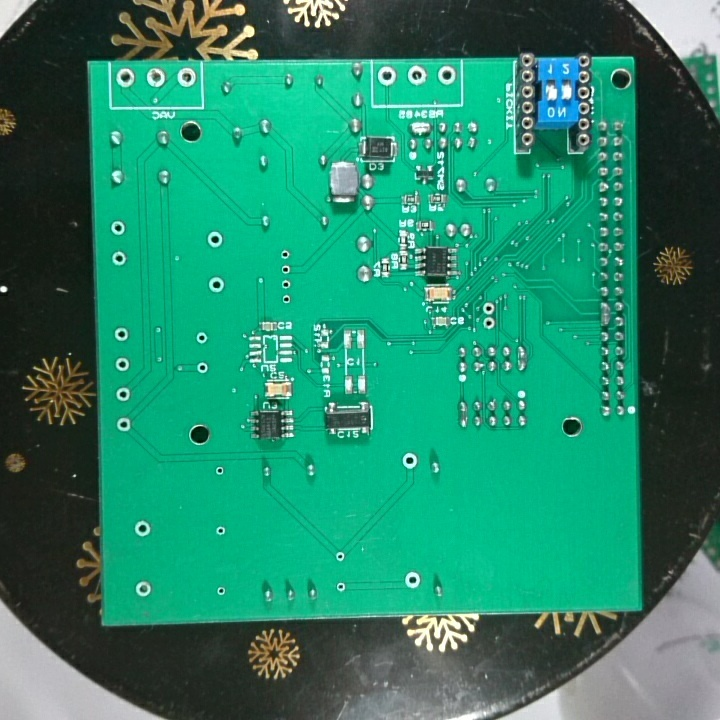F: (374, 64, 399, 89), (401, 569, 425, 592), (143, 66, 168, 88), (174, 67, 198, 89), (115, 66, 137, 90), (437, 63, 458, 88), (405, 65, 428, 87), (203, 228, 225, 251), (133, 578, 155, 600), (132, 518, 153, 540), (112, 384, 133, 405), (205, 275, 227, 294), (109, 249, 129, 269), (113, 415, 133, 435), (113, 355, 132, 375), (107, 220, 128, 238), (111, 325, 131, 343), (399, 450, 417, 470), (211, 463, 229, 480), (212, 583, 231, 599), (194, 329, 209, 349), (276, 291, 296, 306), (277, 275, 294, 292), (480, 315, 497, 332), (480, 300, 498, 315), (194, 360, 210, 376), (278, 246, 293, 263), (332, 549, 347, 566), (277, 262, 293, 277), (213, 523, 228, 539), (334, 579, 347, 595)
P: (455, 398, 471, 427), (598, 300, 614, 328), (406, 120, 434, 135), (515, 343, 528, 373)
